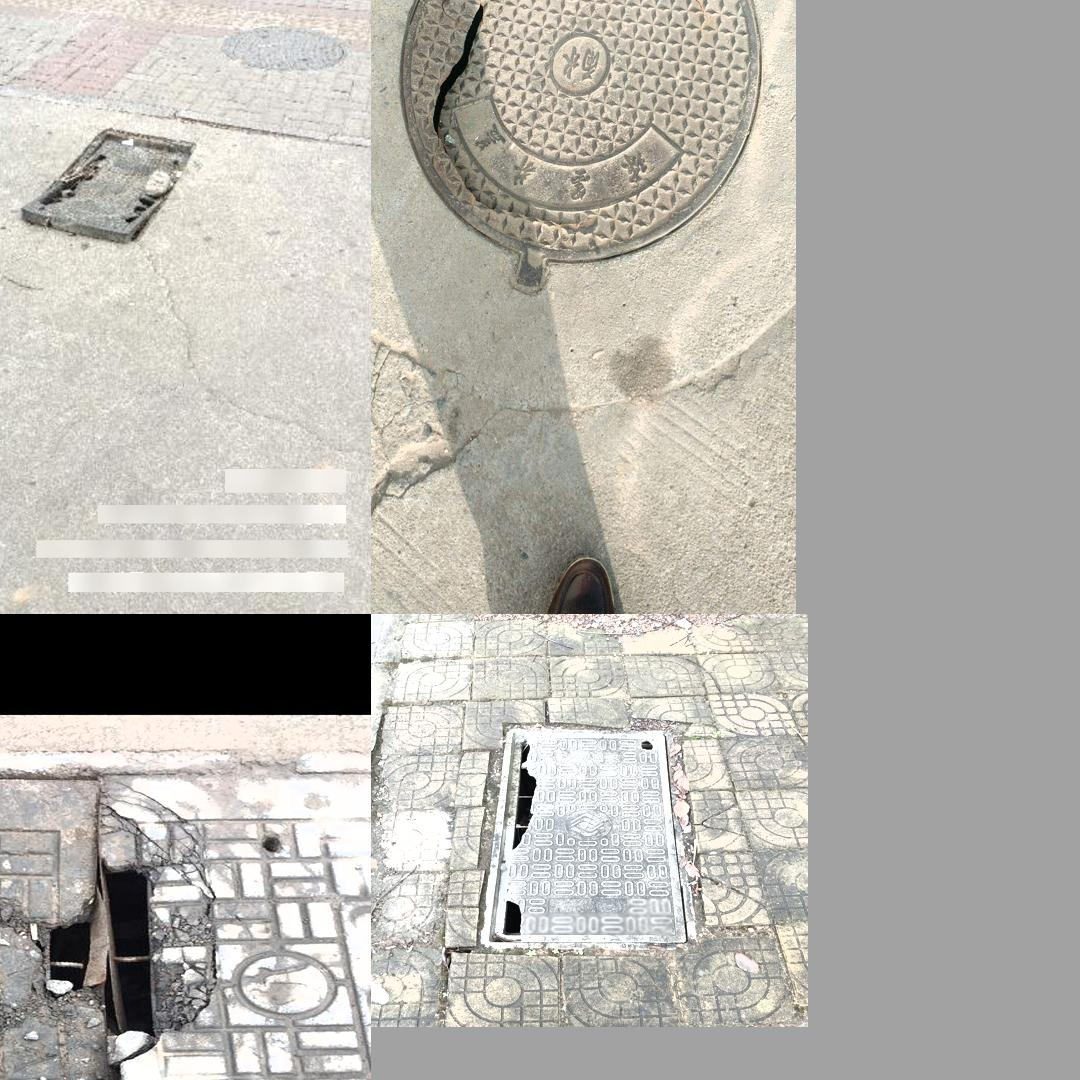broke: (0, 746, 363, 1080), (399, 0, 763, 298), (478, 728, 687, 952), (19, 127, 196, 242)
good: (220, 25, 350, 70)
